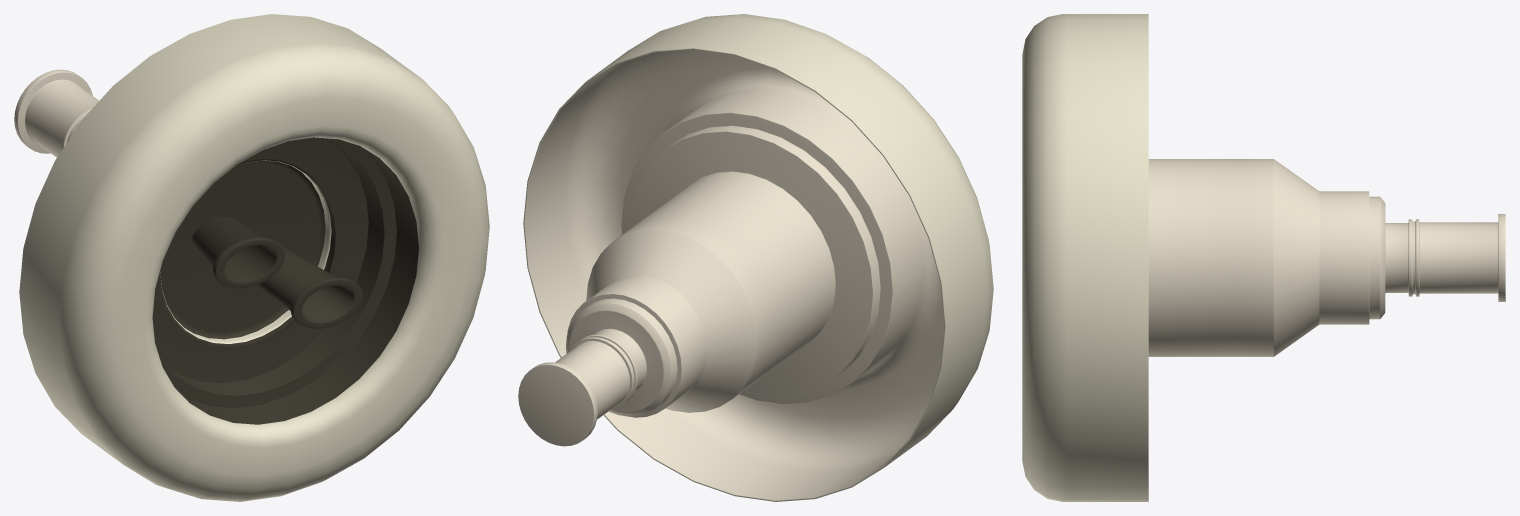
Rendered from regular_jet2-transformed.glb.
3 views of the same model, side by side, from view 1: azimuth 30°, elevation 25°; view 2: azimuth 150°, elevation 25°; view 3: azimuth 270°, elevation 25° (orthographic).
Visible parts, largest first — view 1: RegularJet; view 2: RegularJet; view 3: RegularJet.
Part boxes in pixels (<box>): RegularJet: <box>14,14,489,501</box>; RegularJet: <box>518,14,993,501</box>; RegularJet: <box>1022,14,1505,501</box>.
Size of the model in its own units: 0.5799 by 0.5799 by 0.5737.
